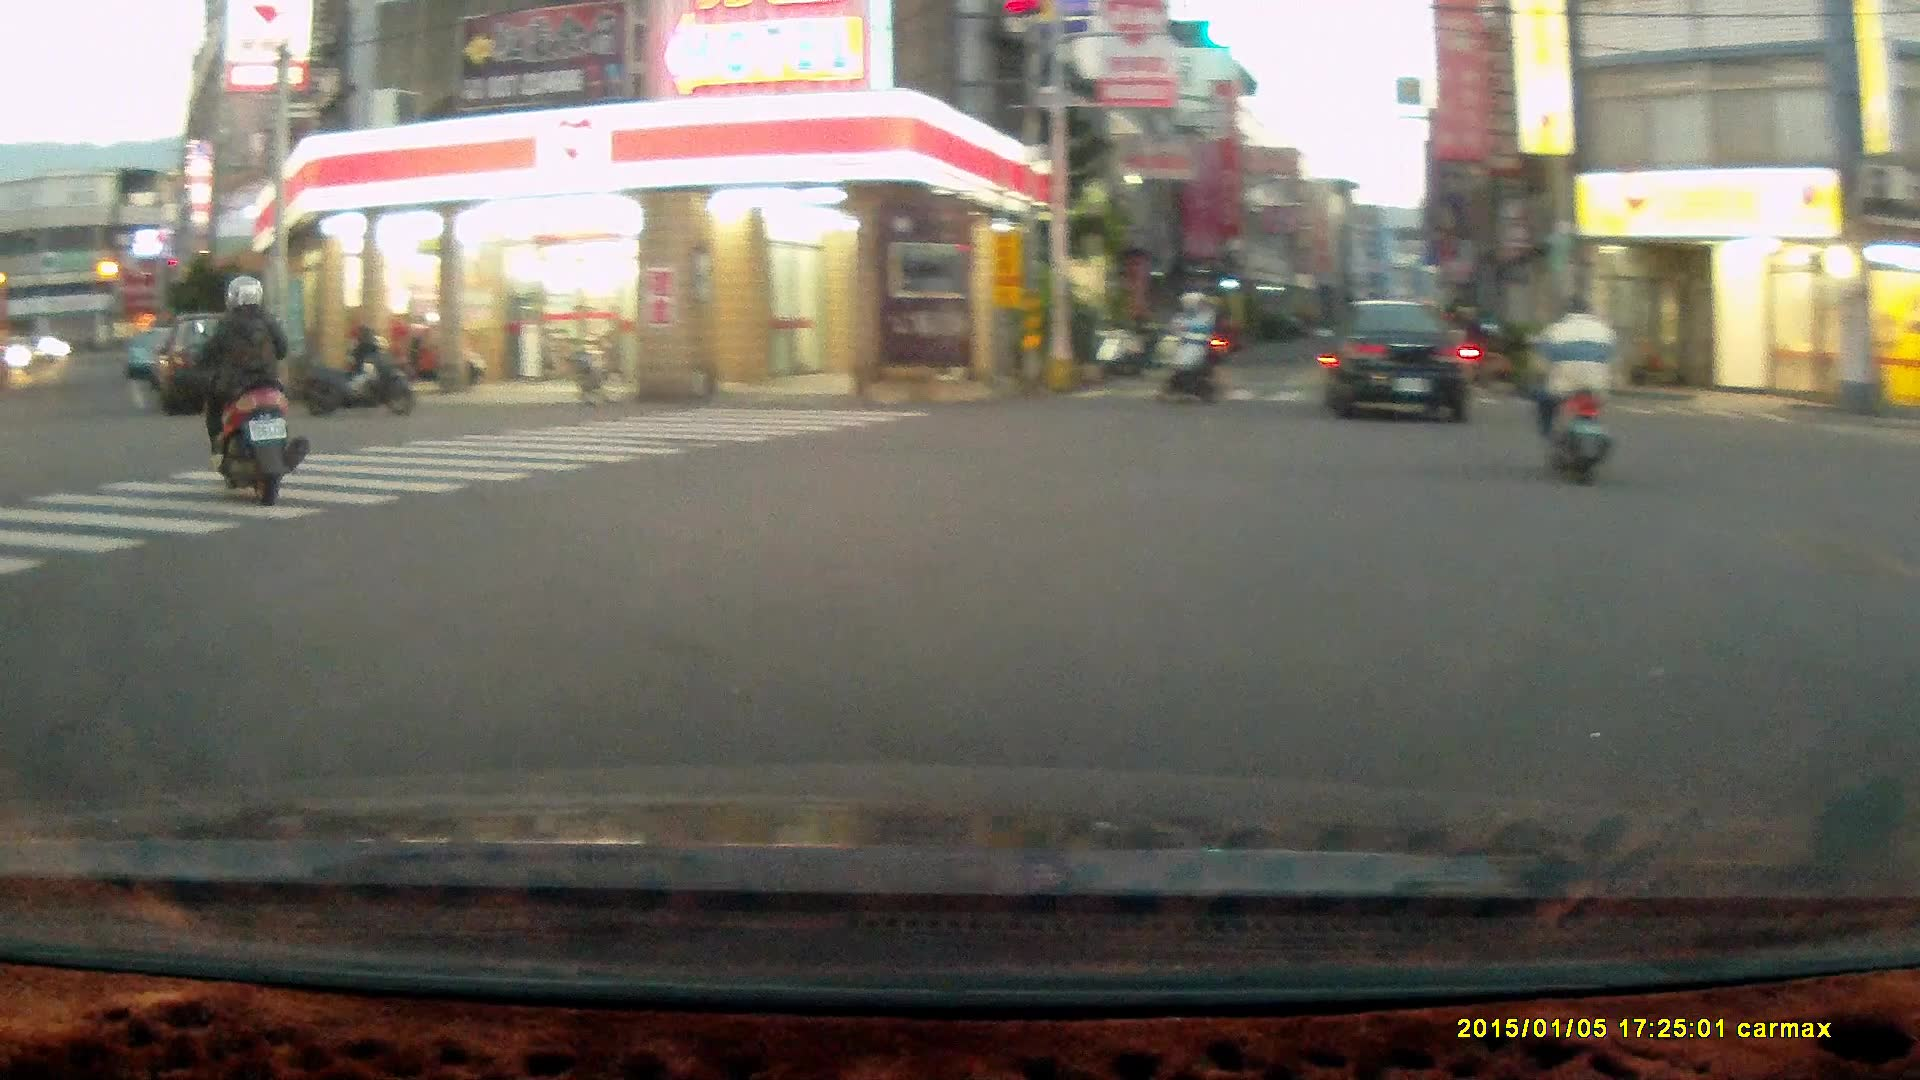rider: (193, 275, 309, 504), (1527, 290, 1621, 489), (1156, 285, 1223, 406)
vehicle: (1324, 298, 1480, 421), (154, 307, 283, 409)
